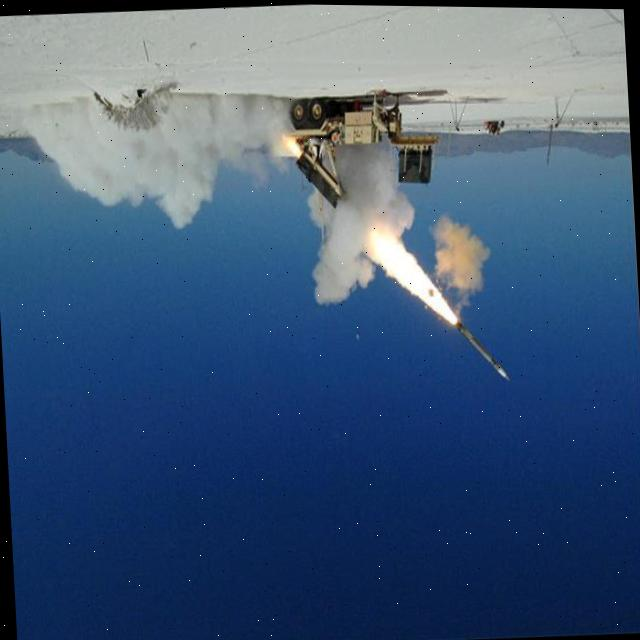missile: (456, 321, 512, 384)
